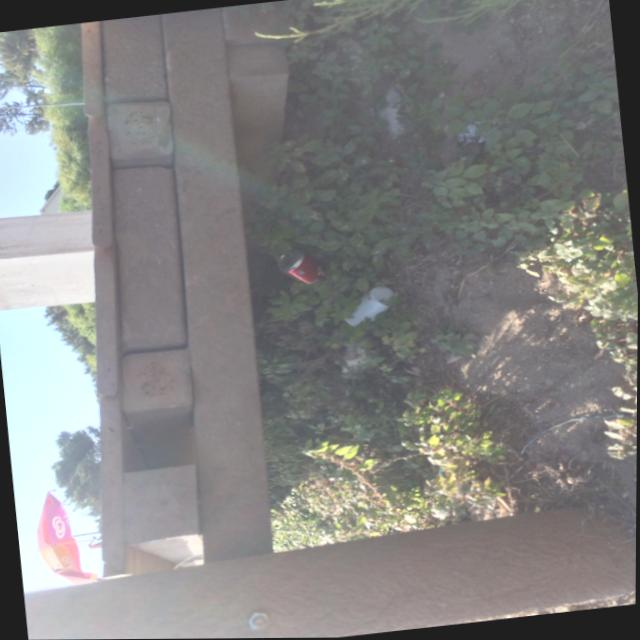Can-Metal: (266, 240, 334, 294)
Plastic: (329, 280, 402, 336)
